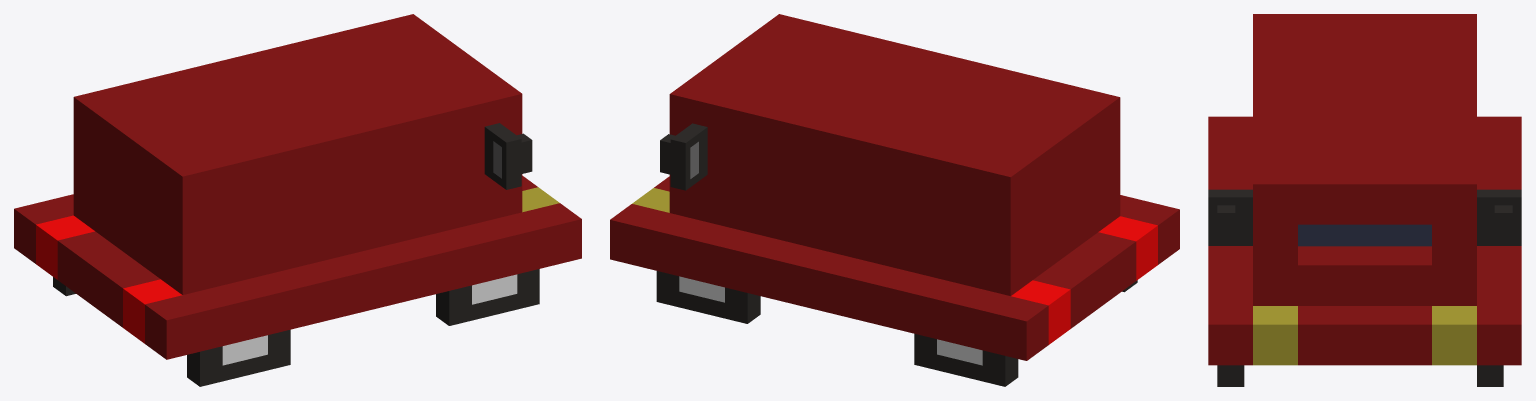
The model's file is red_car.obj.
3 views of the same model, side by side, from view 1: azimuth 30°, elevation 25°; view 2: azimuth 150°, elevation 25°; view 3: azimuth 270°, elevation 25° (orthographic). The views are drawn at different scales.
Bounding box in the file's own units: 55 × 25 × 35.
